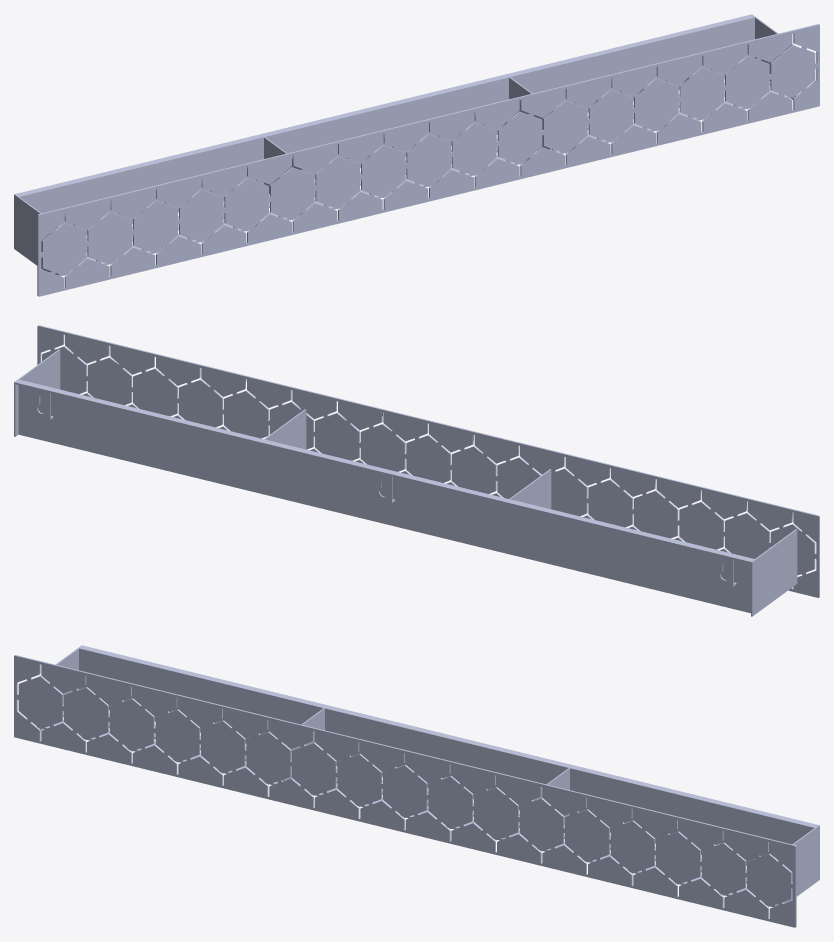
Rendered from bee-mono.0cd23ec8d4.glb.
3 renders of one model, top to bottom at view 1: azimuth 30°, elevation 25°; view 2: azimuth 150°, elevation 25°; view 3: azimuth 330°, elevation 25°, orthographic.
Parts seen in each view (by area): view 1: NAUO1; view 2: NAUO1; view 3: NAUO1.
Part boxes in pixels (bbox=[...]): NAUO1: bbox=[14, 14, 819, 296]; NAUO1: bbox=[14, 325, 819, 616]; NAUO1: bbox=[14, 645, 819, 927].
Bounding box in the file's own units: 0.9 × 0.09 × 0.092.
